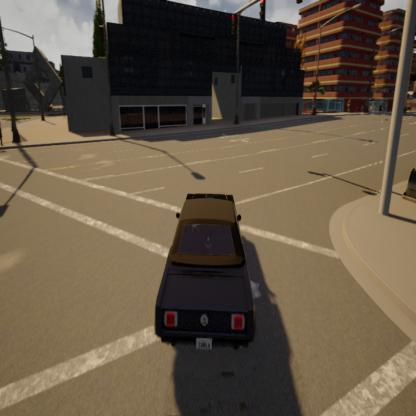Cars: (155, 177, 259, 352)
